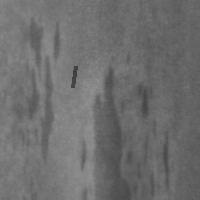inclusion: (76, 62, 141, 200), (11, 13, 62, 171), (126, 119, 171, 200), (133, 79, 156, 121), (70, 64, 77, 89)
